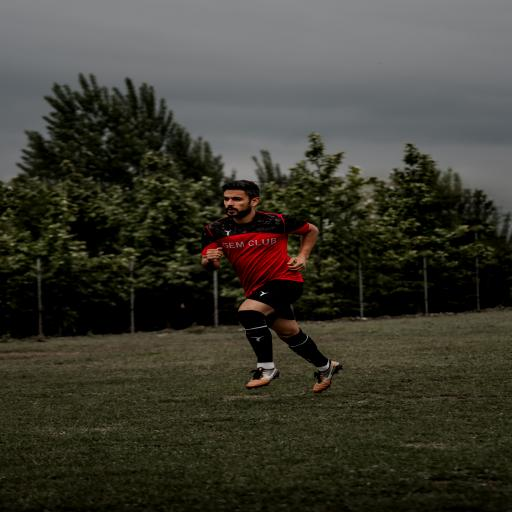shoe: (313, 361, 342, 392), (247, 368, 279, 388)
